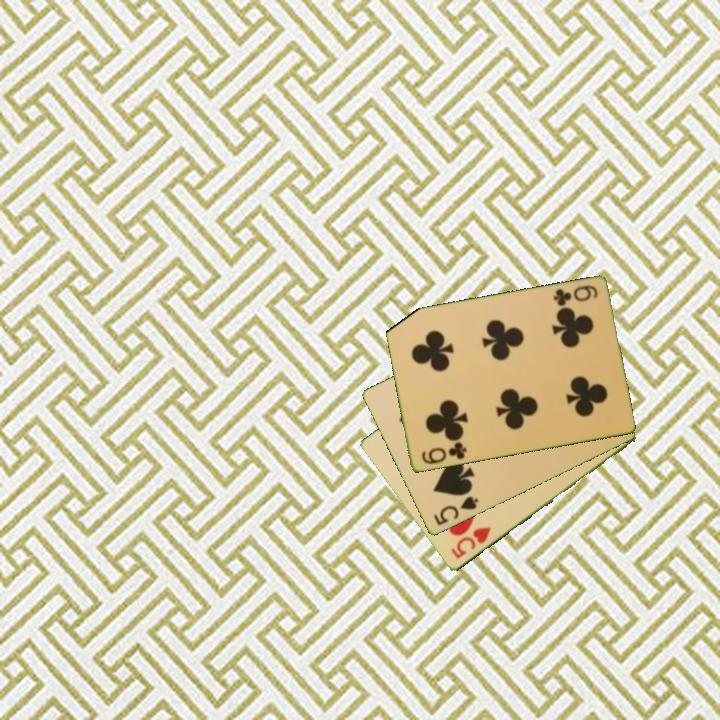5h: (447, 523, 494, 562)
5s: (430, 493, 481, 529)
6c: (418, 439, 470, 468), (549, 282, 600, 309)
